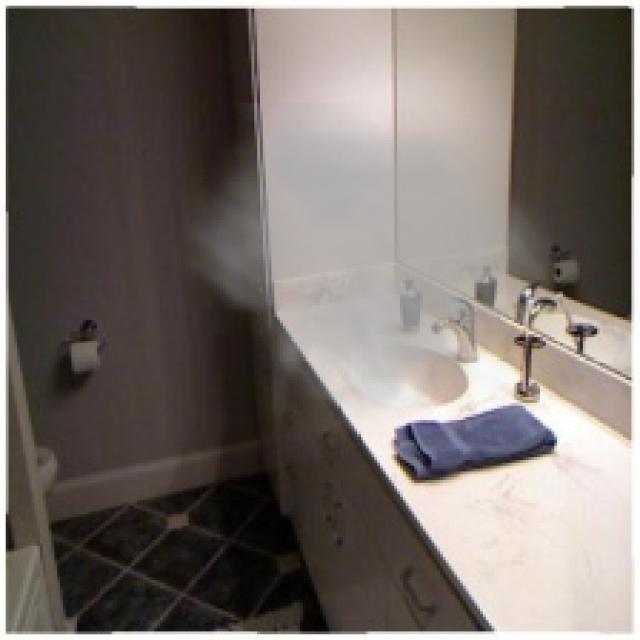smoke: (168, 103, 568, 448)
